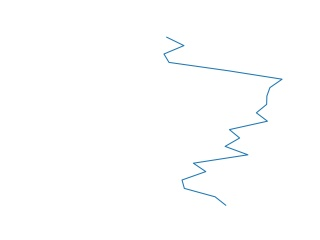floodPlain: (162, 35, 284, 207)
